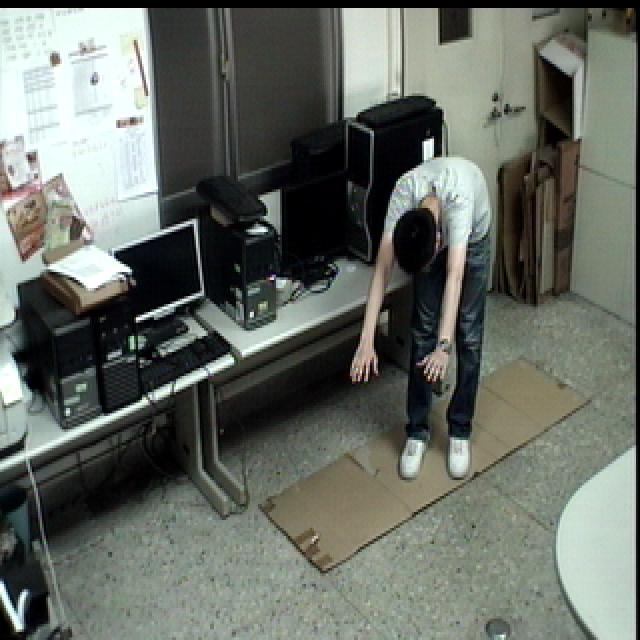bend: (345, 152, 498, 488)
